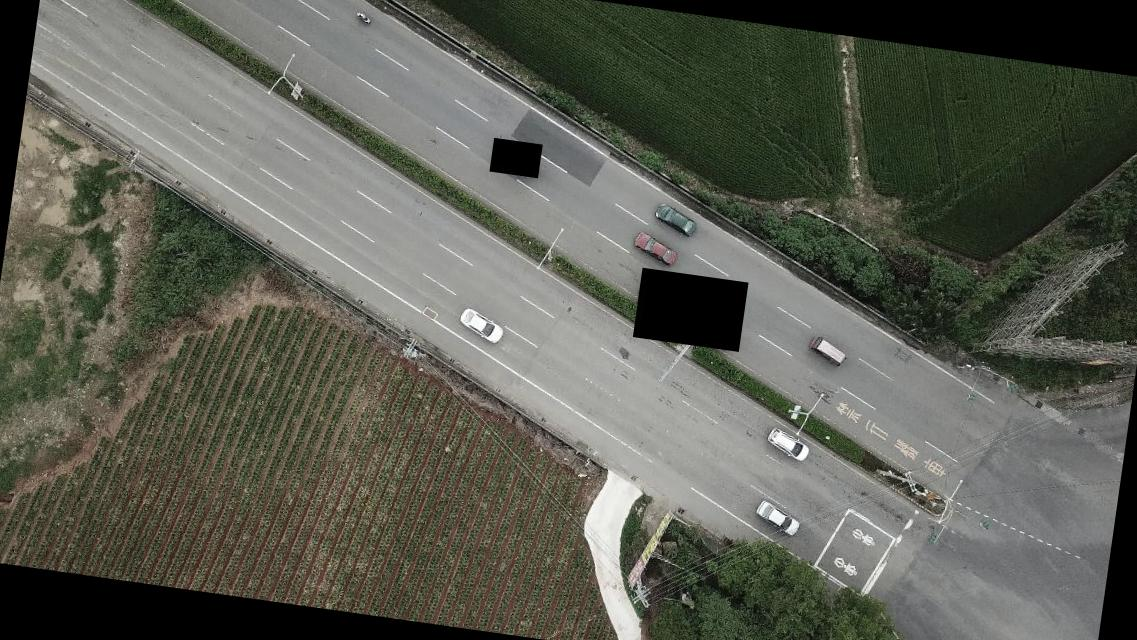vehicle: (752, 498, 802, 538), (457, 308, 506, 347), (652, 201, 699, 238), (763, 426, 811, 462), (633, 230, 680, 266), (808, 334, 848, 367)
